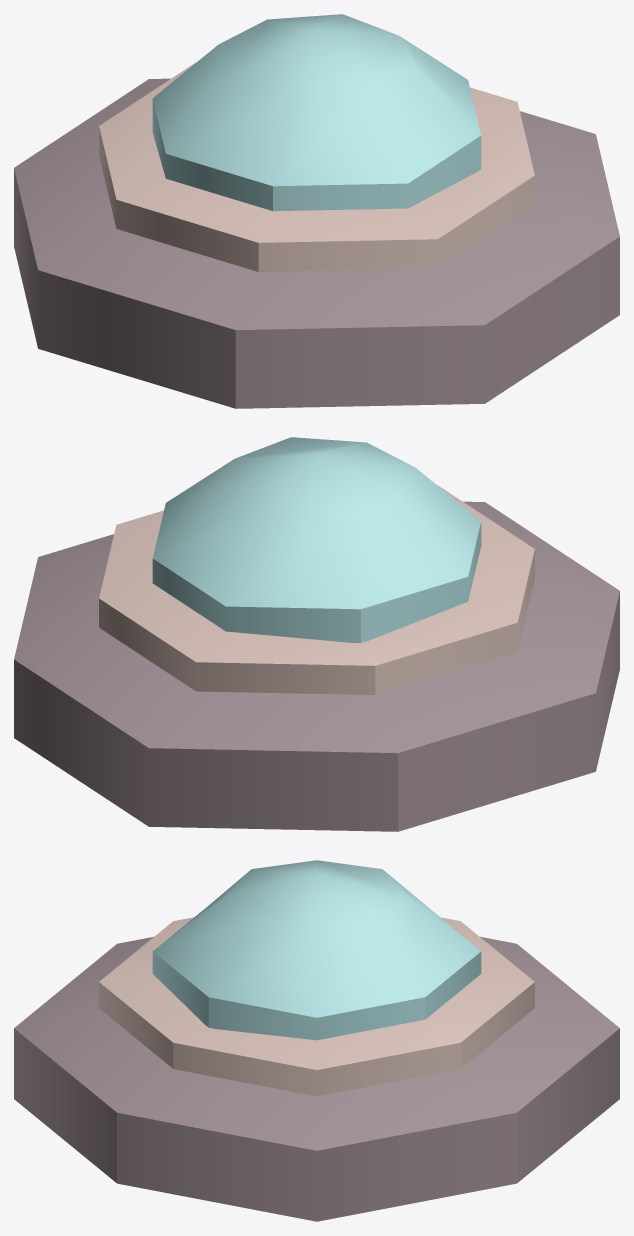
File: UFO.fbx
The picture shows the model from 3 angles, top to bottom: view 1: azimuth 30°, elevation 25°; view 2: azimuth 150°, elevation 25°; view 3: azimuth 270°, elevation 25°; orthographic projection. The views are drawn at different scales.
Parts seen in each view (by area): view 1: pCube111; view 2: pCube111; view 3: pCube111.
Boxes of the visible parts, x1=… form: pCube111: x1=14, y1=14, x2=619, y2=408; pCube111: x1=14, y1=437, x2=619, y2=831; pCube111: x1=14, y1=860, x2=619, y2=1221.
Bounding box in the file's own units: 19.05 × 10.3 × 19.88.
